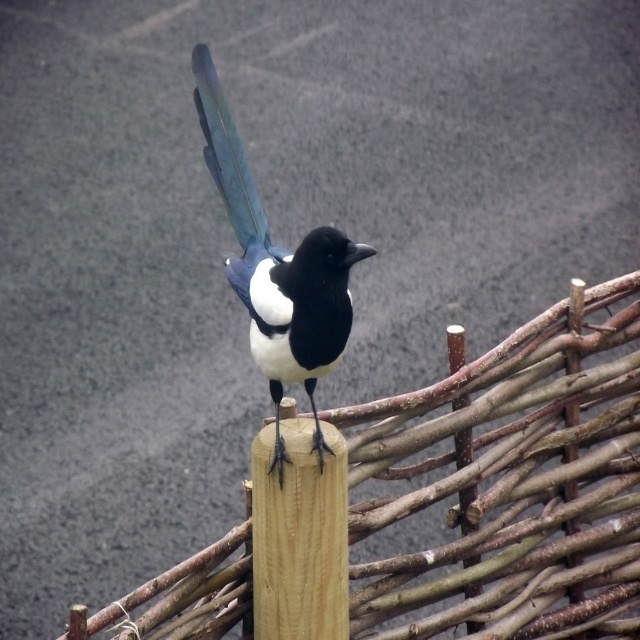Magpie: (191, 44, 380, 490)
